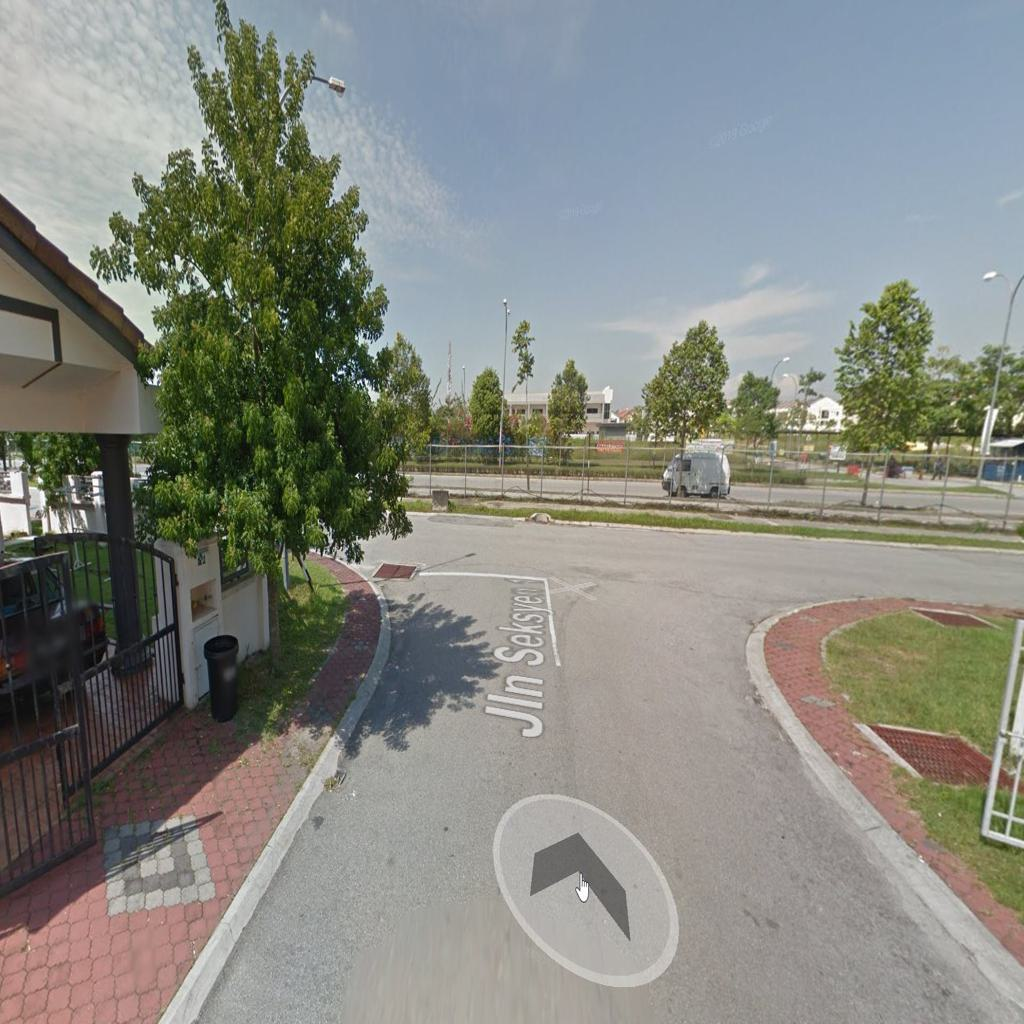Junction: (696, 519, 1024, 675), (313, 480, 457, 630)
